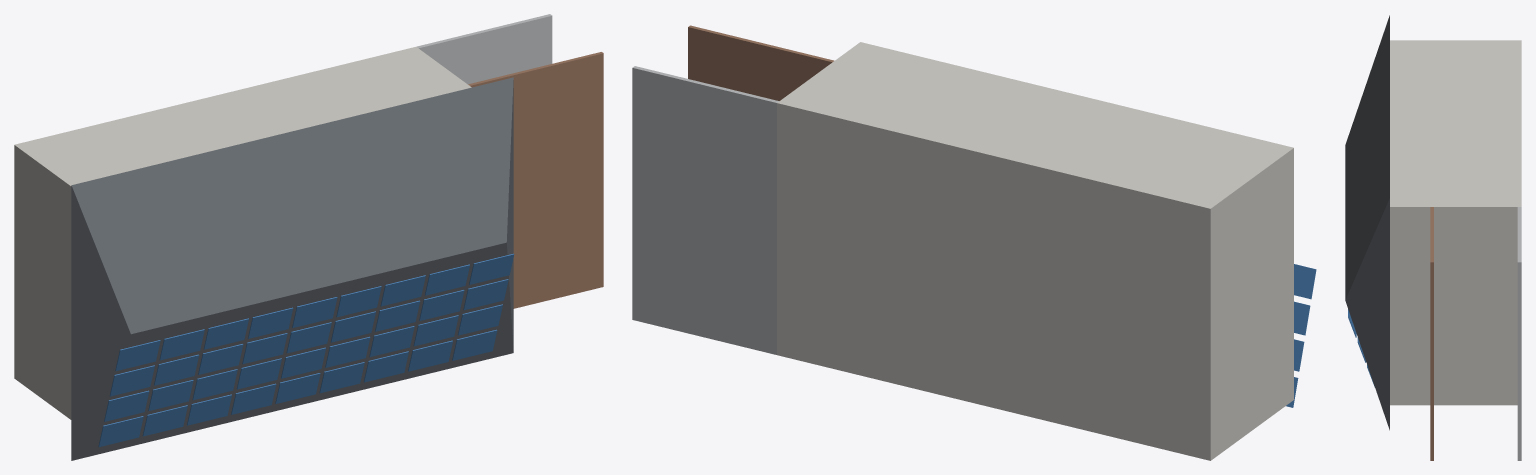
The model's file is generated_5f77fd7927.glb.
The picture shows the model from 3 angles, left to right: view 1: azimuth 30°, elevation 25°; view 2: azimuth 150°, elevation 25°; view 3: azimuth 270°, elevation 25°; orthographic projection. The views are drawn at different scales.
Visible parts, largest first — view 1: hip_roof, house_body, front_porch_roof, front_porch_slab, solar_panel_5, solar_panel_14, solar_panel_21, solar_panel_22, solar_panel_27, solar_panel, solar_panel_6, solar_panel_8 (+28 smaller); view 2: house_body, front_porch_slab, front_porch_roof; view 3: house_body, hip_roof, front_porch_slab, front_porch_roof.
Boxes of the visible parts, box(x1,y1,x2,y2) form: hip_roof: box(71, 77, 513, 460); house_body: box(14, 47, 471, 419); front_porch_roof: box(468, 52, 603, 308); front_porch_slab: box(416, 14, 552, 84); solar_panel_5: box(319, 362, 364, 393); solar_panel_14: box(325, 336, 370, 367); solar_panel_21: box(242, 333, 287, 363); solar_panel_22: box(286, 322, 331, 353); solar_panel_27: box(115, 340, 160, 371); solar_panel: box(98, 416, 143, 447); solar_panel_6: box(363, 351, 408, 382); solar_panel_8: box(452, 329, 497, 360); house_body: box(777, 42, 1293, 460); front_porch_slab: box(632, 66, 778, 354); front_porch_roof: box(688, 25, 834, 100); house_body: box(1390, 40, 1521, 405); hip_roof: box(1345, 15, 1389, 430); front_porch_slab: box(1517, 207, 1521, 460); front_porch_roof: box(1430, 207, 1433, 460).
Bounding box in the file's own units: 24.9 × 11.8 × 8.04.
